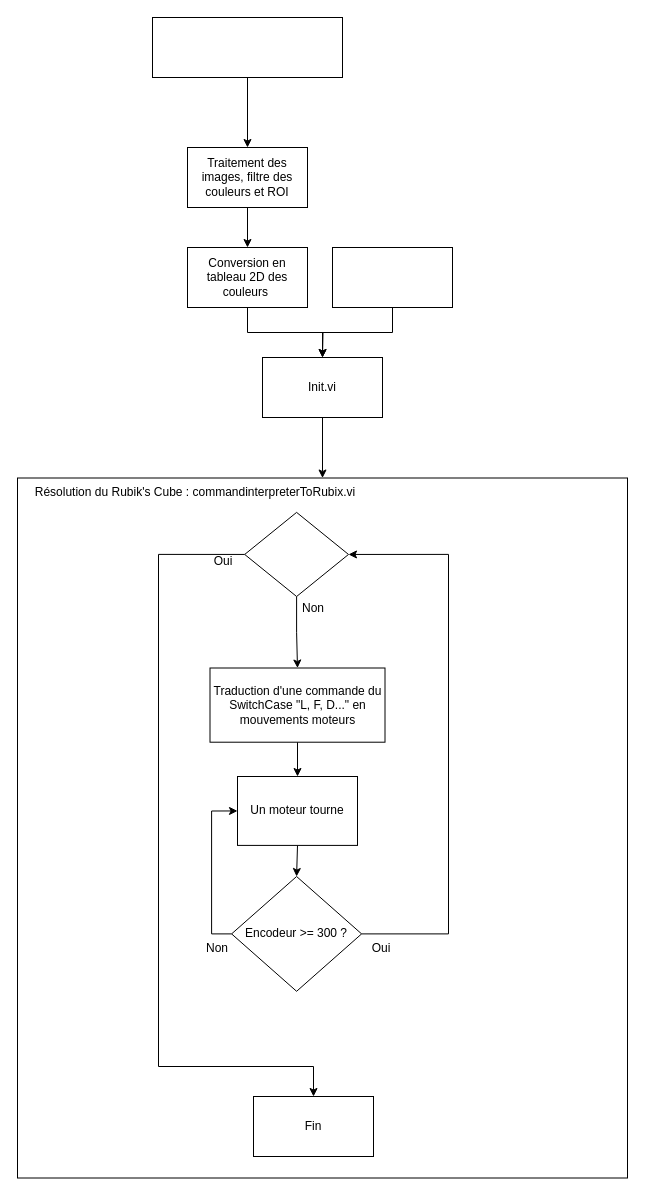
The diagram is 645 pixels wide and 1196 high, and some of its shapes have lost their labels. Each missing label, with the centre of its shape:
Acquisition d'une image pour chaque caméra: the point at 247,47
Cube résolu ?: the point at 296,553
Initialisation des moteurs: the point at 392,277
